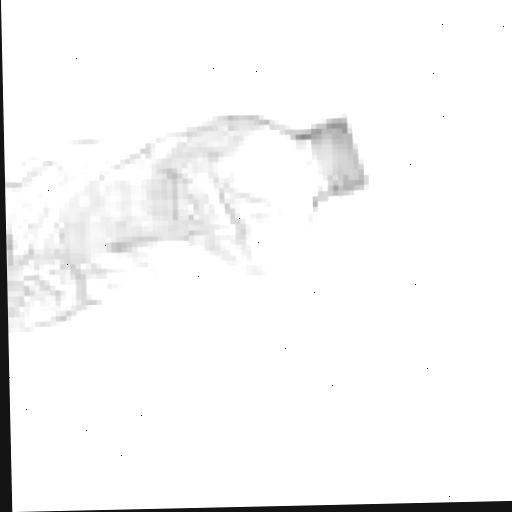ba: (1, 53, 417, 389)
